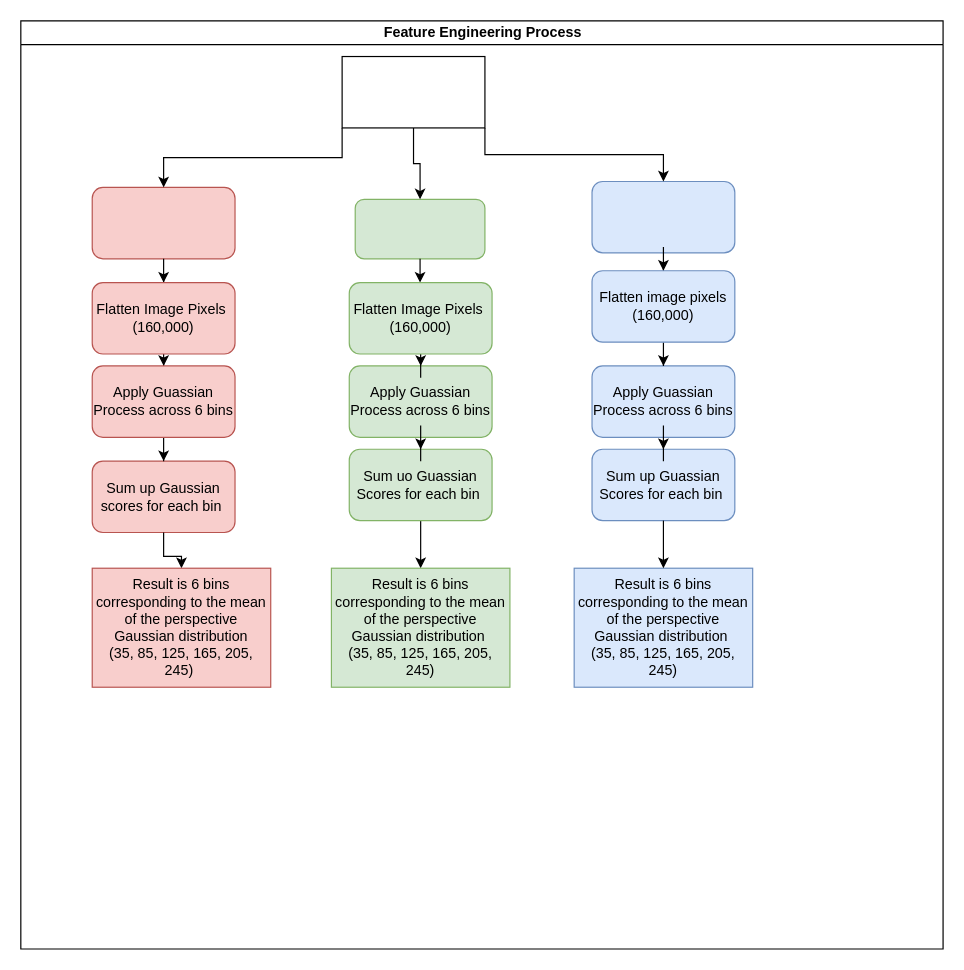
The diagram is 964 pixels wide and 970 high, and some of its shapes have lost their labels. The centre of each missing label's shape, as x and y in pixels:
Blue Color Channel: [663,216]
Green Color Channel: [419,228]
Red Color Channel: [163,222]
Single cell Image (400x400x3): [413,91]
